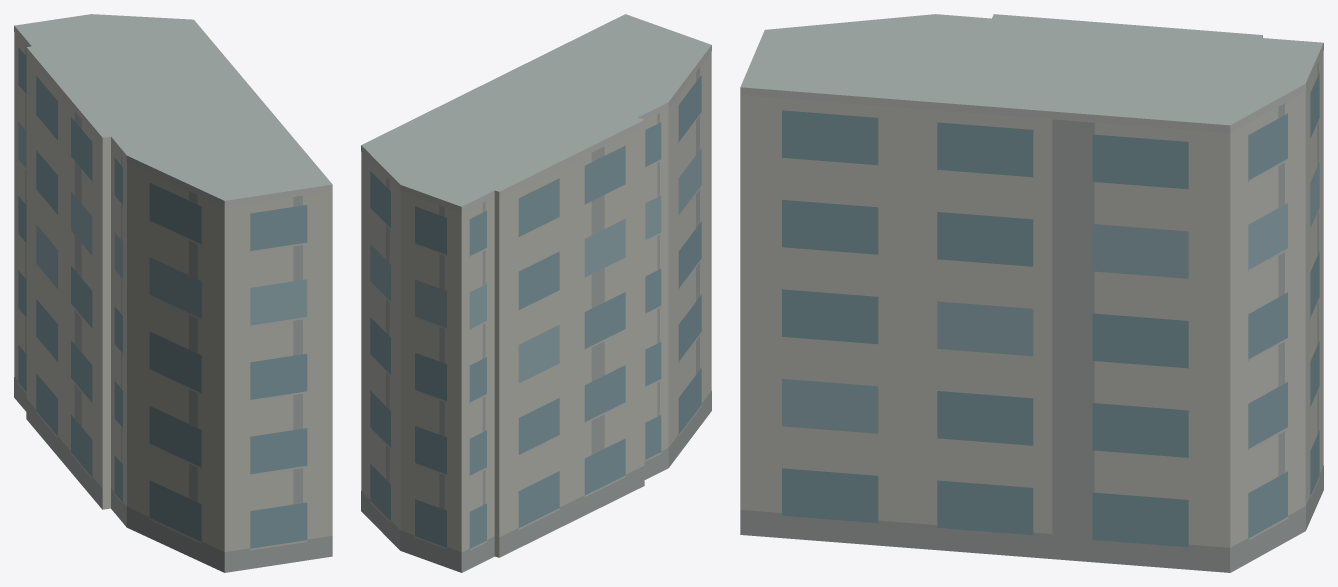
File: survey-upis-32496424.glb
3 views of the same model, side by side, from view 1: azimuth 30°, elevation 25°; view 2: azimuth 150°, elevation 25°; view 3: azimuth 270°, elevation 25° (orthographic). The views are drawn at different scales.
Visible parts, largest first — view 1: survey-upis-32496424.tmp; view 2: survey-upis-32496424.tmp; view 3: survey-upis-32496424.tmp.
Part boxes in pixels (x1=…): survey-upis-32496424.tmp: x1=14, y1=14, x2=332, y2=572; survey-upis-32496424.tmp: x1=361, y1=14, x2=711, y2=572; survey-upis-32496424.tmp: x1=740, y1=14, x2=1323, y2=572.
Size of the model in its own units: 7.37 by 13.8 by 16.31.
